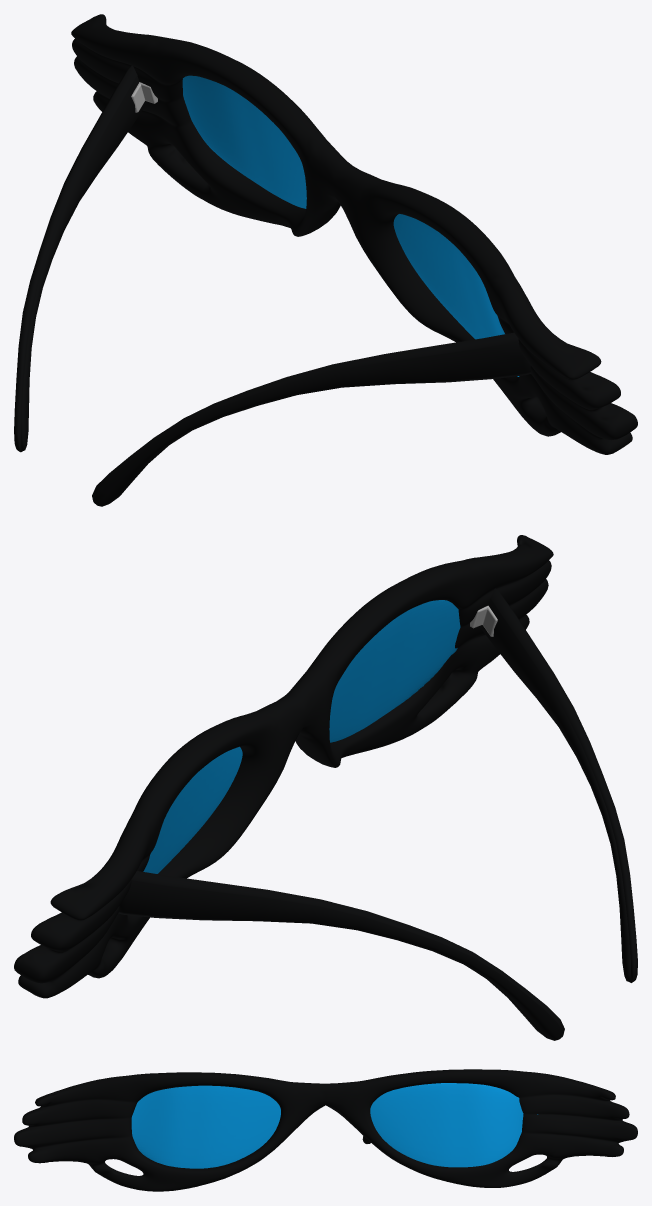
The model's file is glasses.glb.
3 renders of one model, top to bottom at view 1: azimuth 30°, elevation 25°; view 2: azimuth 150°, elevation 25°; view 3: azimuth 270°, elevation 25°, orthographic. The views are drawn at different scales.
Visible parts, largest first — view 1: LENTE; view 2: LENTE; view 3: LENTE.
Boxes of the visible parts, box(x1,y1,x2,y2) form: LENTE: box(14, 14, 637, 506); LENTE: box(14, 535, 637, 1040); LENTE: box(14, 1069, 637, 1191).
Bounding box in the file's own units: 4.1 × 2.87 × 10.27.
